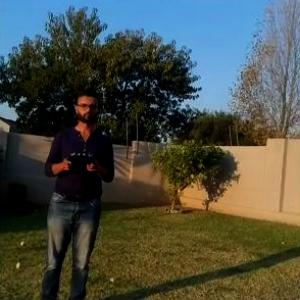follow: (36, 84, 119, 299)
